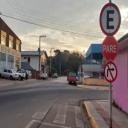NoVirarDireita: (103, 62, 118, 84)
